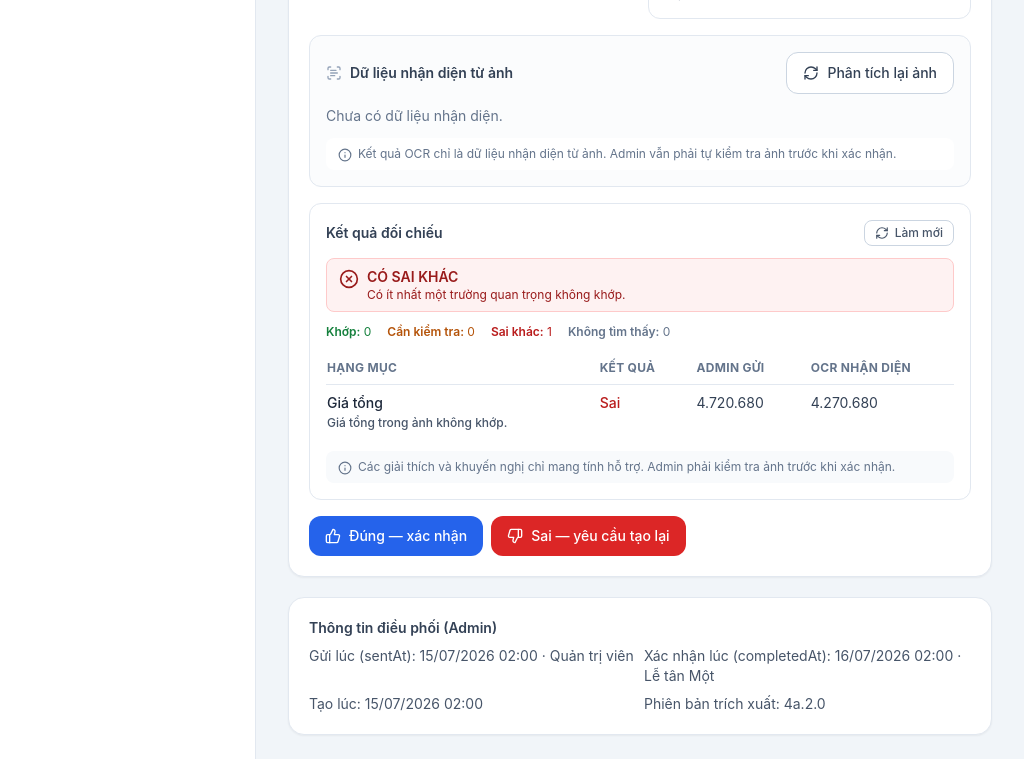
Test case: BookingDetailPage — admin review › asks for an extra confirmation before approving a MISMATCH (never auto-approves)
The image size is (1024, 759).
(page scrolled)
Expected: the message named "Kết quả đối chiếu: CÓ SAI KHÁC" is shown, [326,258,954,312]
Expected: the button "Sai — yêu cầu tạo lại" is enabled, [491,516,686,556]
# Clicking approve does NOT auto-approve — it asks for confirmation first.
Click the button "Đúng — xác nhận" at (396, 536), box [309,516,483,556]
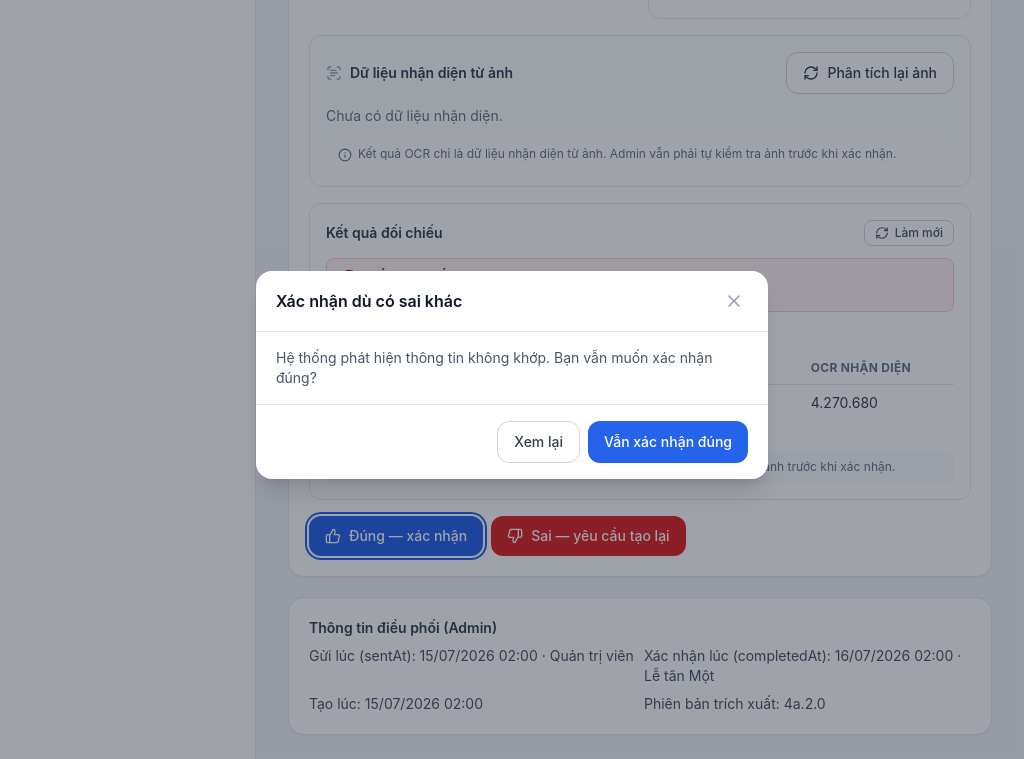
Expected: the text "Hệ thống phát hiện thông tin không khớp. Bạn vẫn muốn xác nhận đúng?" is shown, [276,348,748,388]
# Confirming proceeds with the real approval.
Click the button "Vẫn xác nhận đúng" at (668, 442), box [588,421,748,463]
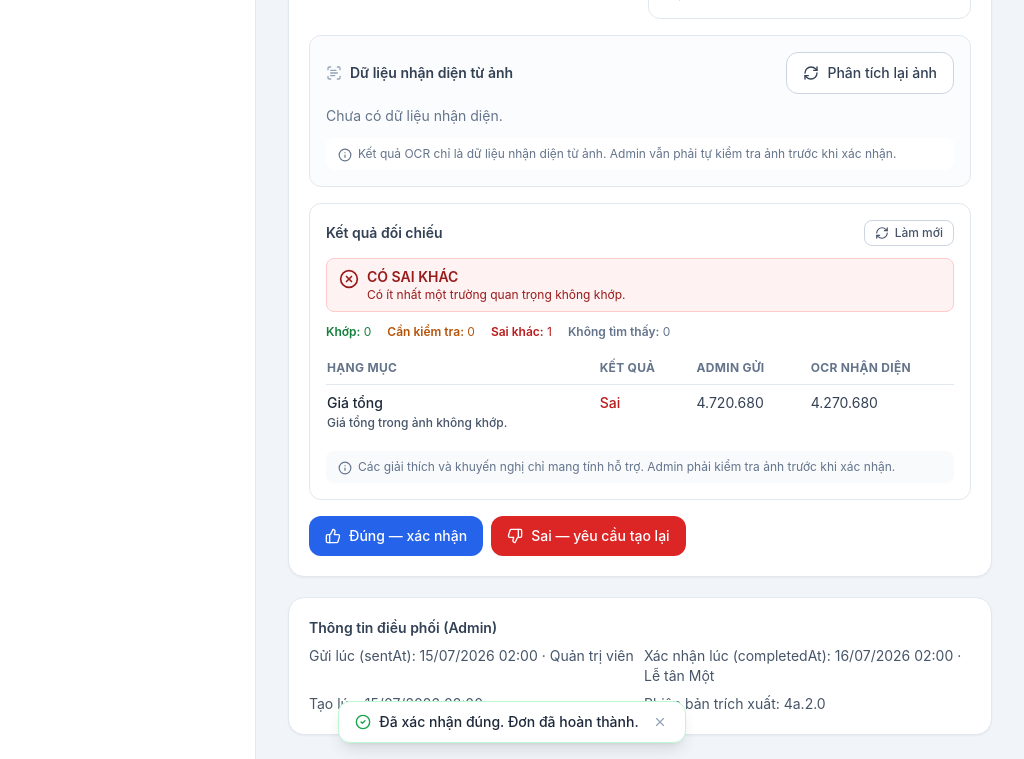
Expected: the text "Đã xác nhận đúng. Đơn đã hoàn thành." is shown, [379,712,639,732]
